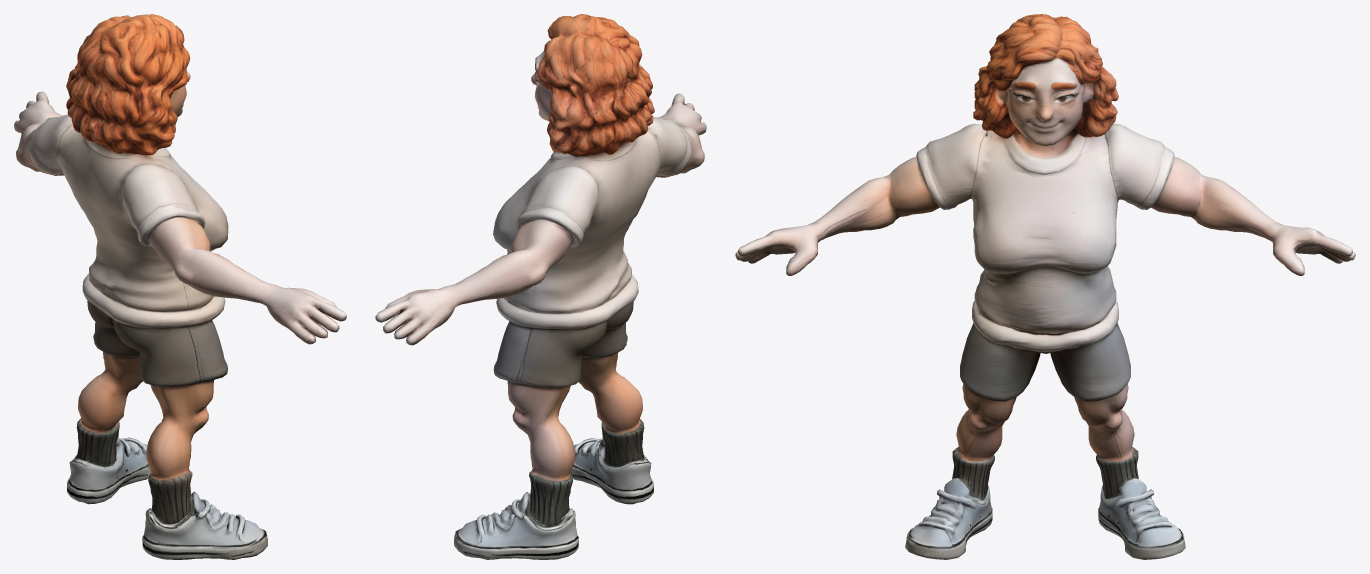
3 renders of one model, left to right at view 1: azimuth 30°, elevation 25°; view 2: azimuth 150°, elevation 25°; view 3: azimuth 270°, elevation 25°, orthographic.
Visible parts, largest first — view 1: tripo_node_2eeeaf3f; view 2: tripo_node_2eeeaf3f; view 3: tripo_node_2eeeaf3f.
Part boxes in pixels (x1,y1,x2,y2): tripo_node_2eeeaf3f: (14,14,346,559); tripo_node_2eeeaf3f: (375,14,706,559); tripo_node_2eeeaf3f: (735,14,1355,559).
Bounding box in the file's own units: 0.2524 × 0.908 × 1.
Materials: 1 (1 with a texture image).
